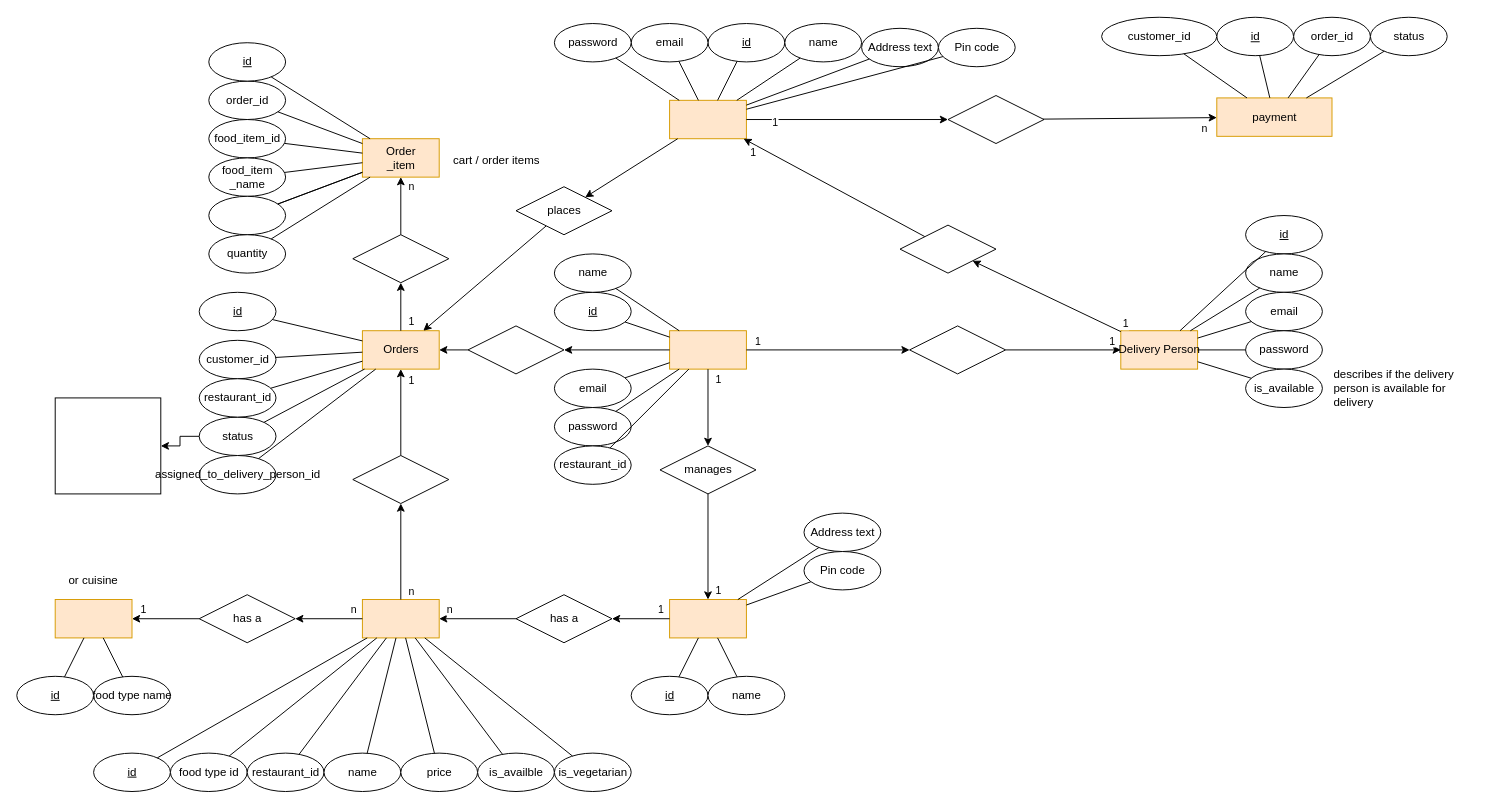
Some shapes in this 1502 by 808 pixel diagram are drawn without their labels. The centre of each missing label's shape, as x and y in pixels:
"arrived preparing out for delivery picked up delivered" goes at pixel 107 445.
"assigns delivery" goes at pixel 957 349.
"completes" goes at pixel 515 349.
"contains" goes at pixel 400 258.
"customer" goes at pixel 707 119.
"delivers order" goes at pixel 947 248.
"Food Item (from the menu)" goes at pixel 400 618.
"Food Type" goes at pixel 93 618.
"food_item _price" goes at pixel 247 215.
"forms an" goes at pixel 400 479.
"pays a" goes at pixel 995 119.
"Restaurant" goes at pixel 707 618.
"Restaurant Manager" goes at pixel 707 349.
